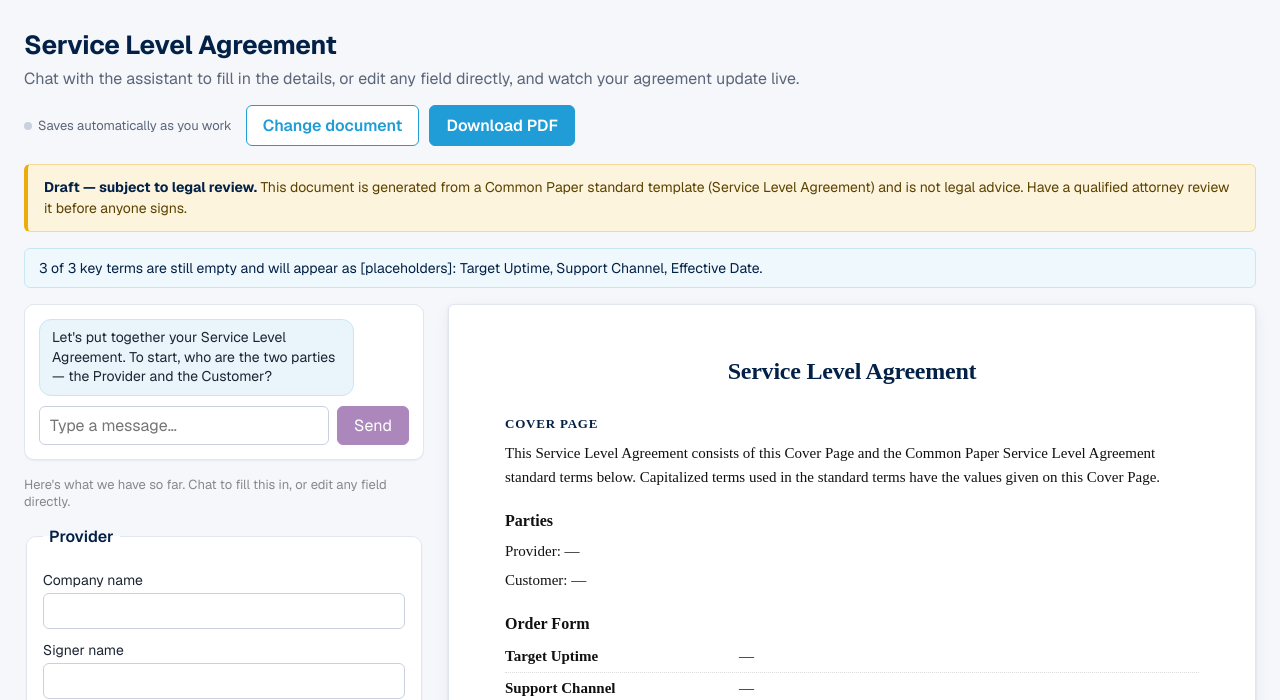
DocumentCreator › shows an alert when PDF generation fails
expect the 1st heading "Service Level Agreement" is shown: met, box x1=24 y1=28 x2=336 y2=62
What coordinates should you click on to do the following:
click the button "Download PDF"
I would click on:
 (502, 126)
Its box is x1=429 y1=105 x2=575 y2=146.
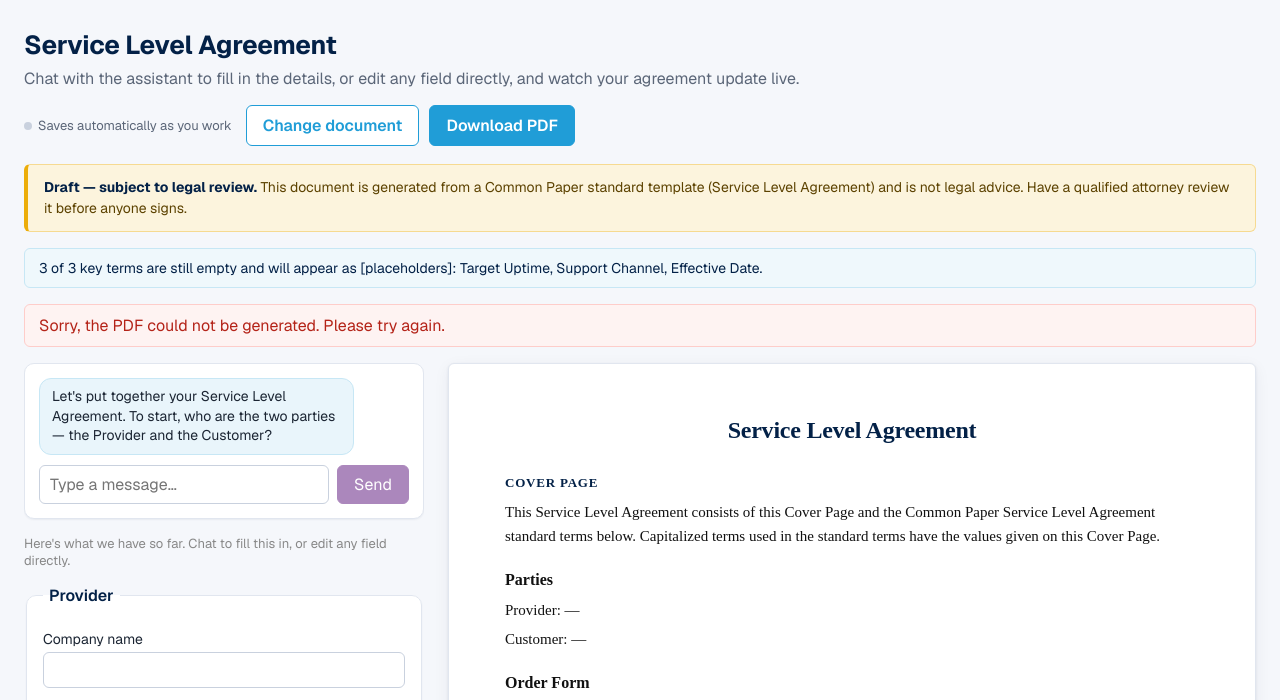
expect the message "Sorry, the PDF could not be generated. Please try again." is shown: met, box x1=24 y1=304 x2=1256 y2=347
